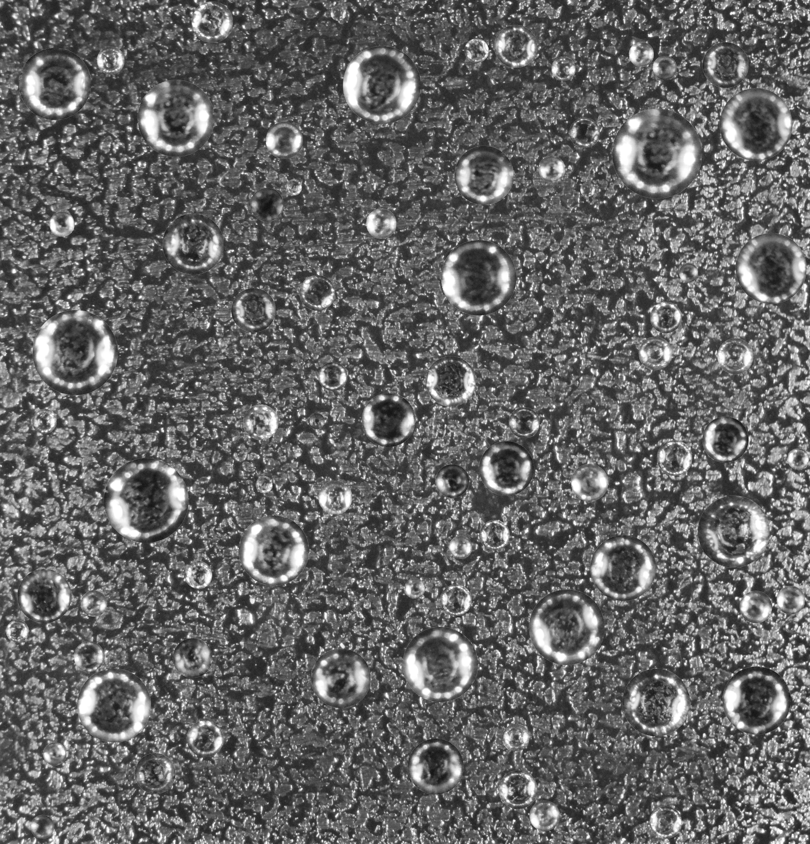Bubble: (612, 108, 702, 198), (32, 310, 117, 395), (103, 458, 188, 542), (343, 46, 420, 123), (137, 79, 214, 156), (529, 589, 604, 665), (441, 240, 516, 315), (402, 627, 477, 702), (77, 668, 150, 742), (719, 88, 792, 160), (697, 495, 769, 567), (18, 47, 90, 119), (735, 233, 806, 303), (238, 515, 308, 585), (622, 668, 690, 736), (722, 666, 790, 734), (590, 535, 656, 600), (162, 213, 223, 274), (311, 648, 370, 708), (454, 145, 513, 204), (407, 738, 463, 794), (479, 441, 533, 495), (17, 569, 71, 623), (361, 393, 415, 446), (425, 356, 475, 406), (702, 416, 748, 462), (702, 42, 748, 87), (231, 288, 275, 332), (494, 24, 537, 67), (191, 1, 232, 42), (134, 753, 175, 793), (172, 638, 212, 677), (498, 770, 537, 809), (265, 121, 302, 158), (571, 464, 608, 501), (186, 720, 223, 757), (717, 338, 753, 374), (299, 275, 335, 310), (243, 404, 278, 439), (657, 440, 692, 475), (638, 336, 672, 370), (318, 480, 352, 514), (435, 464, 469, 497), (250, 187, 283, 221), (739, 590, 772, 623), (649, 806, 681, 838), (650, 301, 681, 333), (508, 407, 539, 438), (440, 584, 471, 615), (529, 800, 559, 831), (73, 641, 104, 671), (366, 208, 396, 238), (569, 117, 599, 147), (479, 520, 509, 549), (318, 362, 347, 390), (776, 586, 805, 614), (96, 46, 124, 74), (184, 561, 212, 588), (538, 155, 565, 182), (502, 724, 529, 751), (80, 590, 107, 616), (49, 211, 74, 236), (629, 41, 653, 66), (551, 56, 575, 80), (32, 409, 56, 433), (652, 55, 676, 79), (464, 38, 488, 62), (30, 815, 54, 838), (43, 742, 66, 765), (449, 535, 472, 558), (6, 620, 28, 642), (787, 448, 809, 469), (404, 578, 424, 598), (679, 263, 698, 282), (255, 476, 272, 493), (285, 179, 301, 195), (308, 413, 324, 429), (330, 5, 346, 20), (580, 182, 595, 196), (785, 620, 798, 632)
